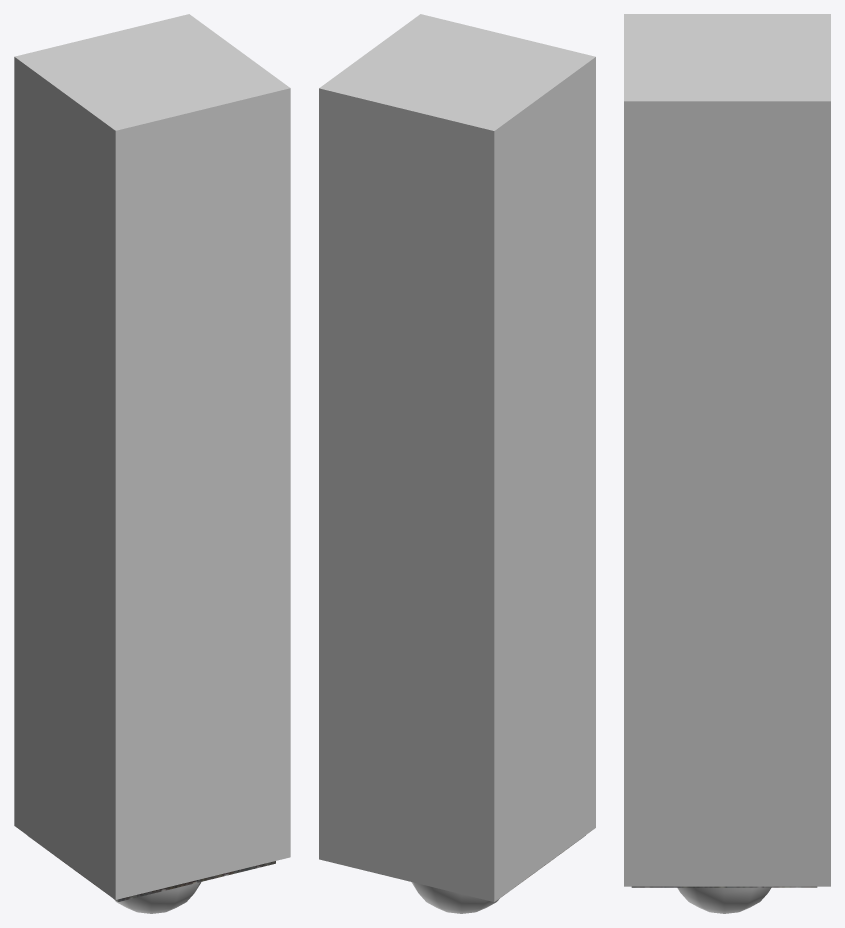
File: bollard.FBX
The picture shows the model from 3 angles, left to right: view 1: azimuth 30°, elevation 25°; view 2: azimuth 150°, elevation 25°; view 3: azimuth 270°, elevation 25°; orthographic projection. The views are drawn at different scales.
Parts seen in each view (by area): view 1: bounds, colcapsule-1, bollard80; view 2: bounds, colcapsule-1; view 3: bounds, colcapsule-1.
Boxes of the visible parts, x1,y1,x2,y2 form: bounds: [14, 14, 290, 899]; colcapsule-1: [114, 882, 201, 913]; bollard80: [27, 835, 275, 901]; bounds: [319, 14, 595, 901]; colcapsule-1: [411, 882, 498, 913]; bounds: [624, 14, 830, 886]; colcapsule-1: [677, 887, 771, 913].
Size of the model in its own units: 28.33 by 129 by 28.43.
